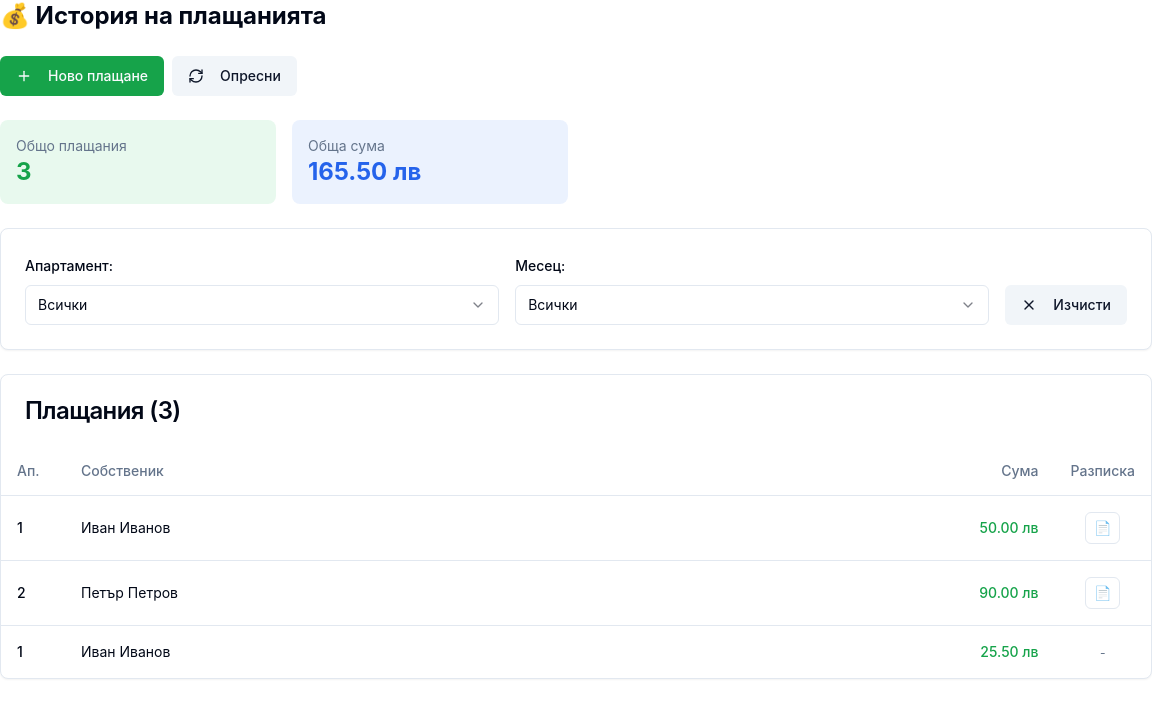
Test: Payments Page › New Payment Button › should open dialog when new payment button is clicked
Expected: the heading "💰 История на плащанията" is shown, left=0, top=1, right=326, bottom=30
Click the button "Ново плащане": (82, 76) left=0, top=56, right=164, bottom=96
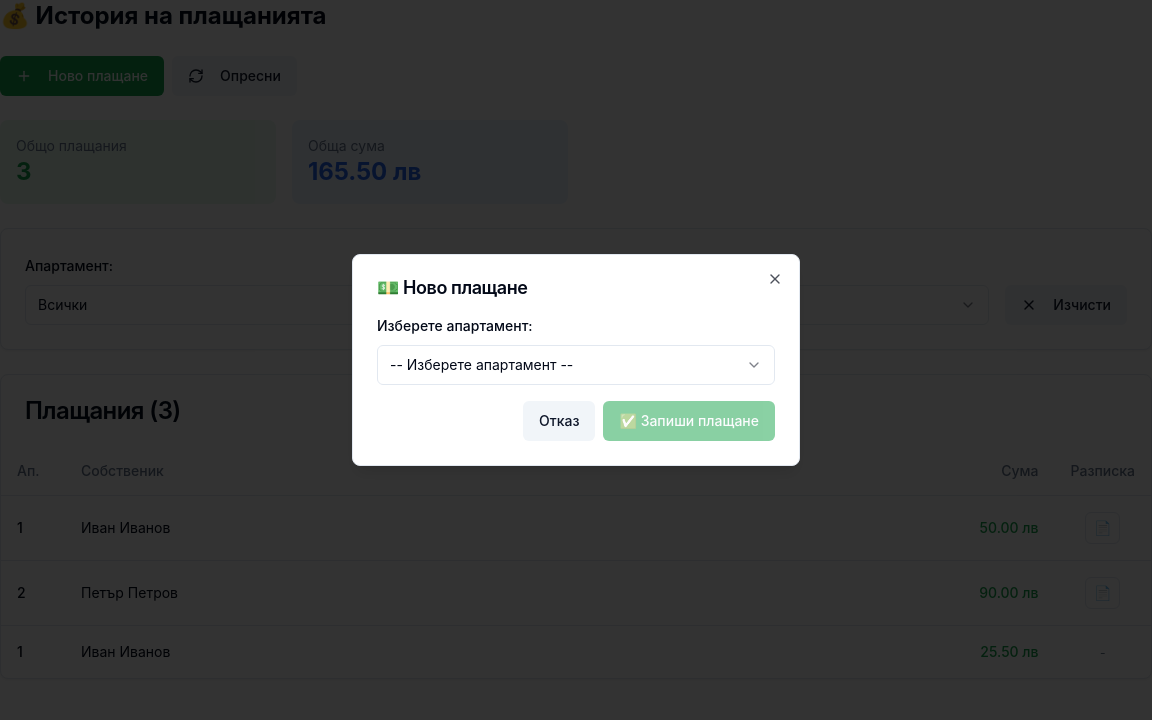
Expected: the dialog is shown, left=352, top=254, right=800, bottom=466
